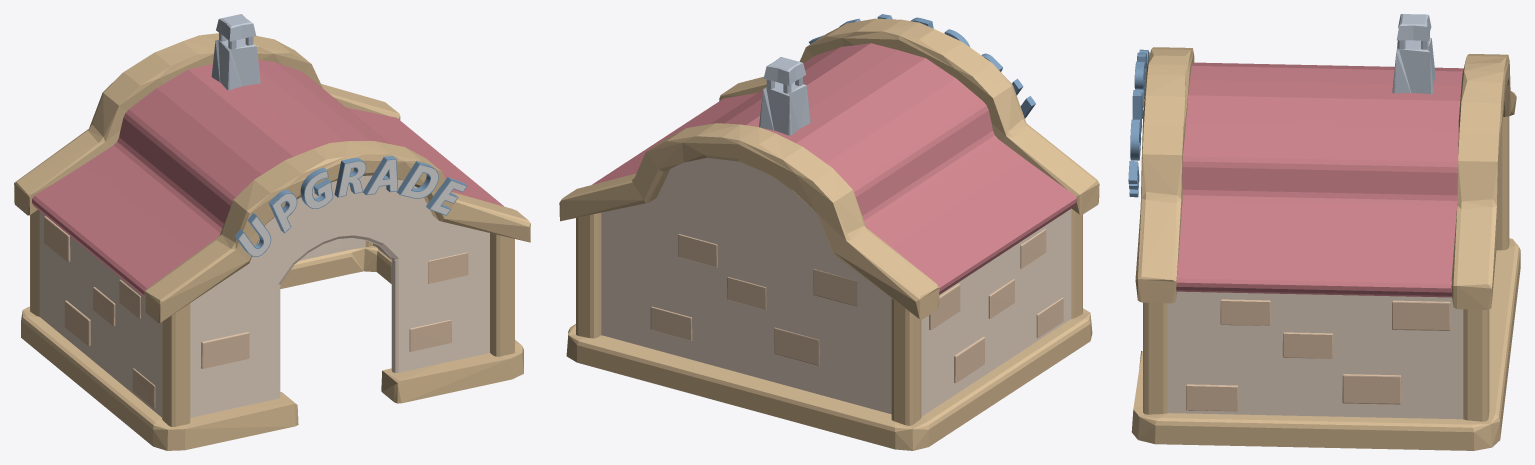
File: BarnUpgradeText.fbx
3 views of the same model, side by side, from view 1: azimuth 30°, elevation 25°; view 2: azimuth 150°, elevation 25°; view 3: azimuth 270°, elevation 25° (orthographic). The views are drawn at different scales.
Visible parts, largest first — view 1: main_Barn, walls, Bricks, TEXT; view 2: main_Barn, walls, Bricks, TEXT; view 3: main_Barn, walls, Bricks, TEXT.
Boxes of the visible parts, x1,y1,x2,y2 form: main_Barn: (14,14,530,450); walls: (39,175,489,417); Bricks: (44,216,468,408); TEXT: (234,155,467,256); main_Barn: (559,18,1099,450); walls: (601,158,1071,416); Bricks: (650,229,1063,383); TEXT: (809,14,1035,118); main_Barn: (1131,14,1520,450); walls: (1167,291,1463,419); Bricks: (1186,299,1450,411); TEXT: (1128,49,1149,197).
Size of the model in its own units: 86.39 by 66.45 by 70.88.
